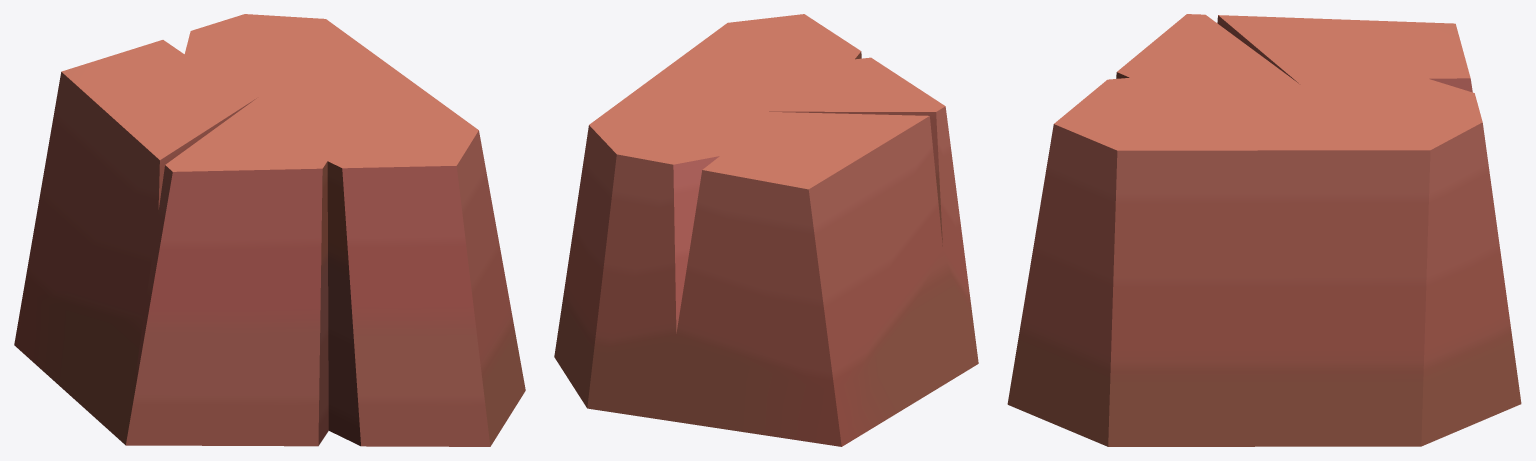
The model's file is RockDebris2.fbx.
The picture shows the model from 3 angles, left to right: view 1: azimuth 30°, elevation 25°; view 2: azimuth 150°, elevation 25°; view 3: azimuth 270°, elevation 25°; orthographic projection. The views are drawn at different scales.
Parts seen in each view (by area): view 1: RockDebris2; view 2: RockDebris2; view 3: RockDebris2.
Part boxes in pixels (x1,y1,x2,y2): RockDebris2: (14,14,525,446); RockDebris2: (554,14,978,446); RockDebris2: (1007,14,1521,446).
Bounding box in the file's own units: 4.8 × 3.44 × 5.83.
